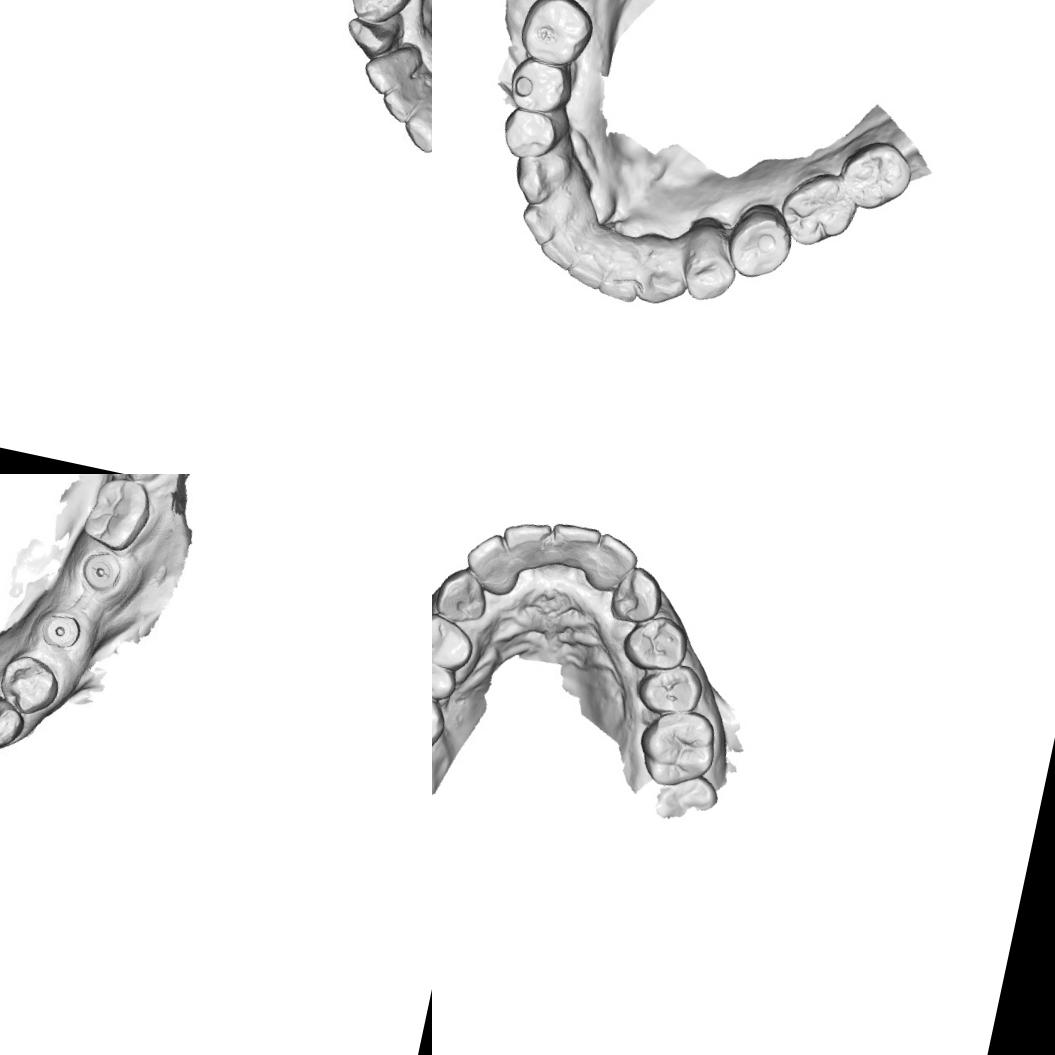canine: (606, 562, 668, 629), (636, 245, 696, 311), (432, 565, 493, 628), (510, 144, 570, 208), (343, 12, 405, 62), (0, 695, 28, 759)
implant: (42, 608, 86, 652)
implant_minus: (78, 550, 128, 594)
incisor: (460, 528, 526, 598), (358, 38, 424, 102), (598, 232, 654, 307), (582, 529, 642, 598), (566, 223, 624, 294), (495, 514, 554, 576), (538, 214, 592, 276), (376, 66, 428, 128), (546, 518, 602, 572), (516, 194, 565, 250), (398, 80, 432, 159)
molar: (630, 700, 724, 796), (772, 164, 866, 255), (835, 136, 918, 216), (81, 474, 158, 555), (519, 0, 598, 66), (432, 681, 451, 754)
premolar: (726, 202, 798, 286), (618, 608, 693, 677), (634, 656, 708, 722), (683, 229, 744, 306), (504, 54, 575, 115), (0, 653, 61, 714), (499, 107, 563, 162), (432, 608, 479, 674), (346, 0, 416, 26), (432, 649, 461, 704)
